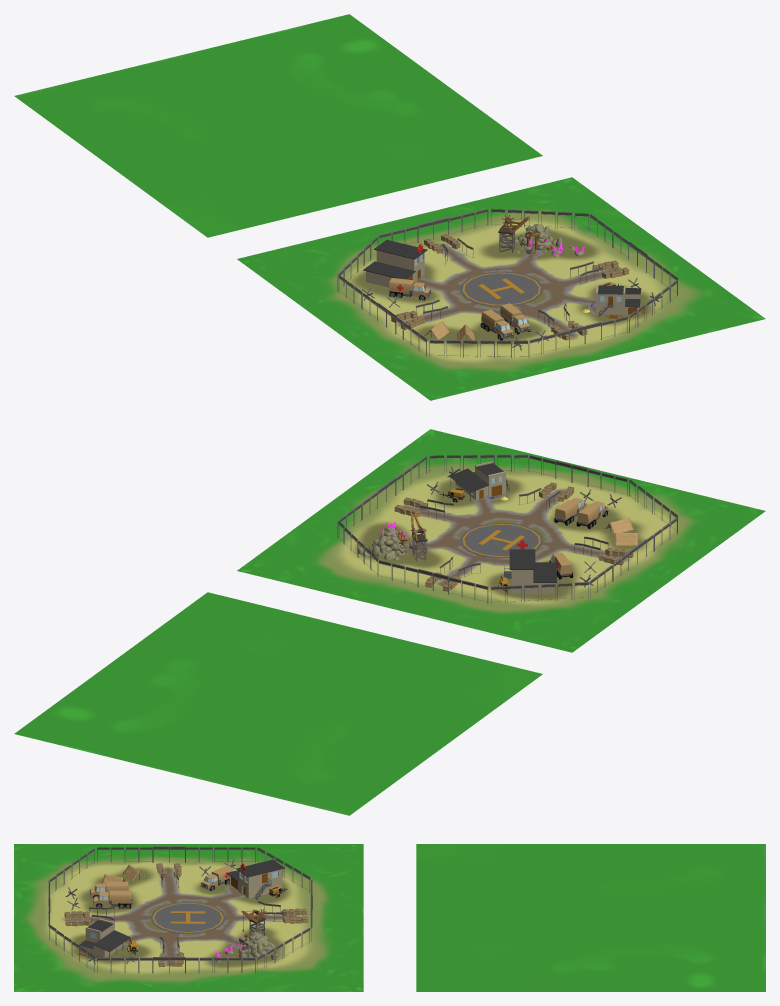
Rendered from map_demo.fbx.
3 renders of one model, top to bottom at view 1: azimuth 30°, elevation 25°; view 2: azimuth 150°, elevation 25°; view 3: azimuth 270°, elevation 25°, orthographic. The views are drawn at different scales.
Visible parts, largest first — view 1: ground_plane, base_plane, fence, Cylinder, hospital_building, builder_house, paramedical_truck, cave_entrance; view 2: ground_plane, base_plane, fence, Cylinder, hospital_building, builder_house, cave_entrance; view 3: ground_plane, base_plane, fence, Cylinder, hospital_building, builder_house, cave_entrance, Truck, paramedical_truck, cave_crane, Truck.001.
Boxes of the visible parts, bbox=[...] form: ground_plane: bbox=[14, 14, 542, 237]; base_plane: bbox=[237, 177, 765, 400]; fence: bbox=[337, 208, 678, 357]; Cylinder: bbox=[460, 271, 543, 306]; hospital_building: bbox=[363, 239, 427, 287]; builder_house: bbox=[596, 284, 641, 316]; paramedical_truck: bbox=[388, 278, 431, 300]; cave_entrance: bbox=[513, 224, 563, 255]; ground_plane: bbox=[14, 592, 542, 815]; base_plane: bbox=[237, 429, 765, 652]; fence: bbox=[337, 454, 678, 603]; Cylinder: bbox=[460, 523, 543, 558]; hospital_building: bbox=[509, 549, 556, 593]; builder_house: bbox=[449, 461, 509, 501]; cave_entrance: bbox=[358, 530, 418, 560]; ground_plane: bbox=[416, 844, 765, 991]; base_plane: bbox=[14, 844, 363, 991]; fence: bbox=[48, 847, 312, 973]; Cylinder: bbox=[150, 901, 225, 933]; hospital_building: bbox=[226, 859, 284, 898]; builder_house: bbox=[79, 918, 130, 957]; cave_entrance: bbox=[233, 932, 278, 959]; Truck: bbox=[93, 890, 132, 908]; paramedical_truck: bbox=[200, 865, 233, 890]; cave_crane: bbox=[241, 908, 266, 935]; Truck.001: bbox=[89, 881, 128, 897].
Size of the model in its own units: 2000 by 216 by 4300.
